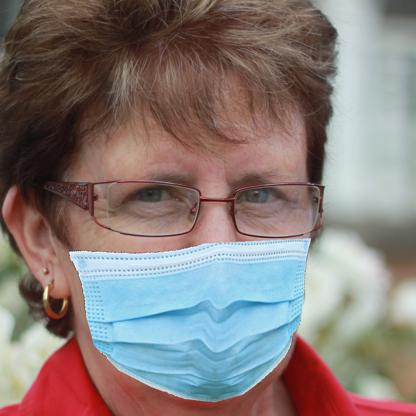mask: (69, 237, 308, 403)
